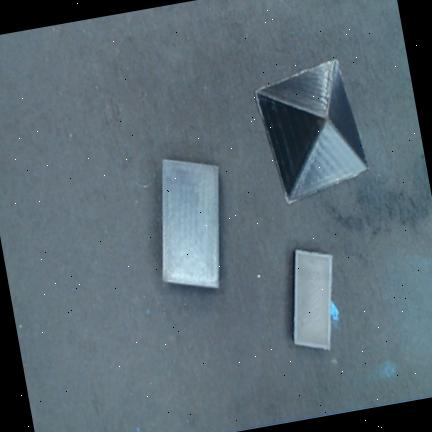Paralelepipedo: (162, 160, 219, 288), (294, 249, 333, 351)
Piramide: (254, 58, 369, 204)
